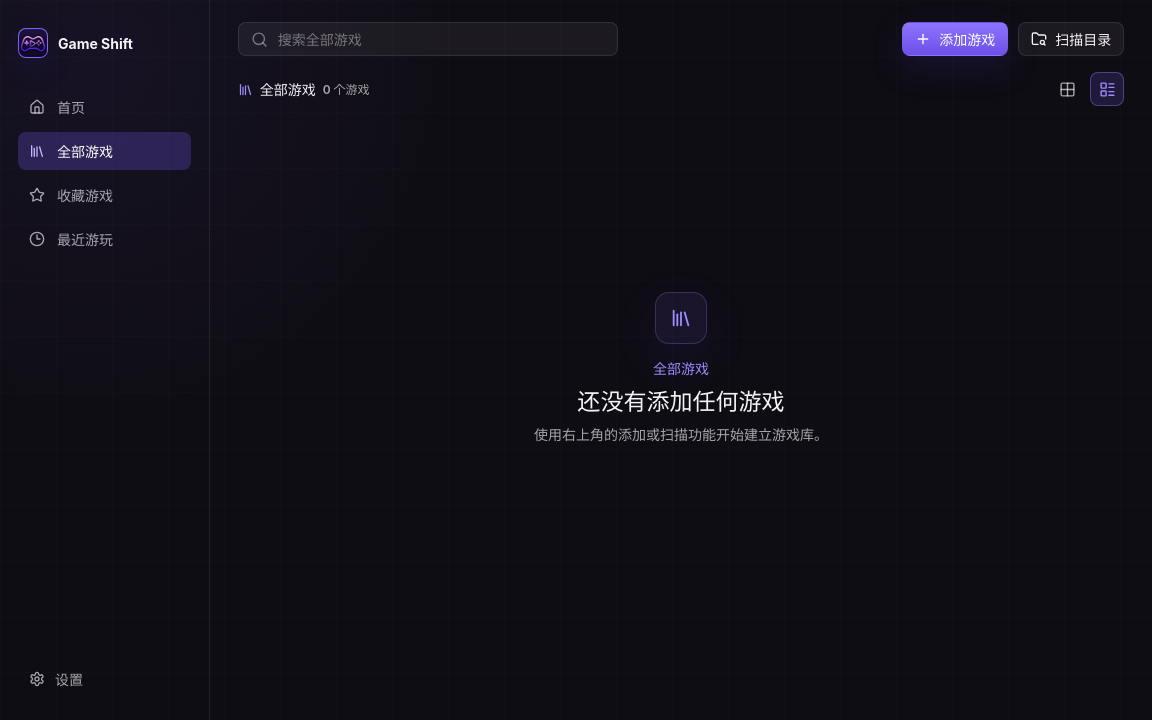
GameLibraryLayout › keeps scan dialog open when import fails
What coordinates should you click on to do the following:
click the button "扫描目录"
I would click on:
 (1071, 39)
Its box is [1018, 22, 1124, 56].
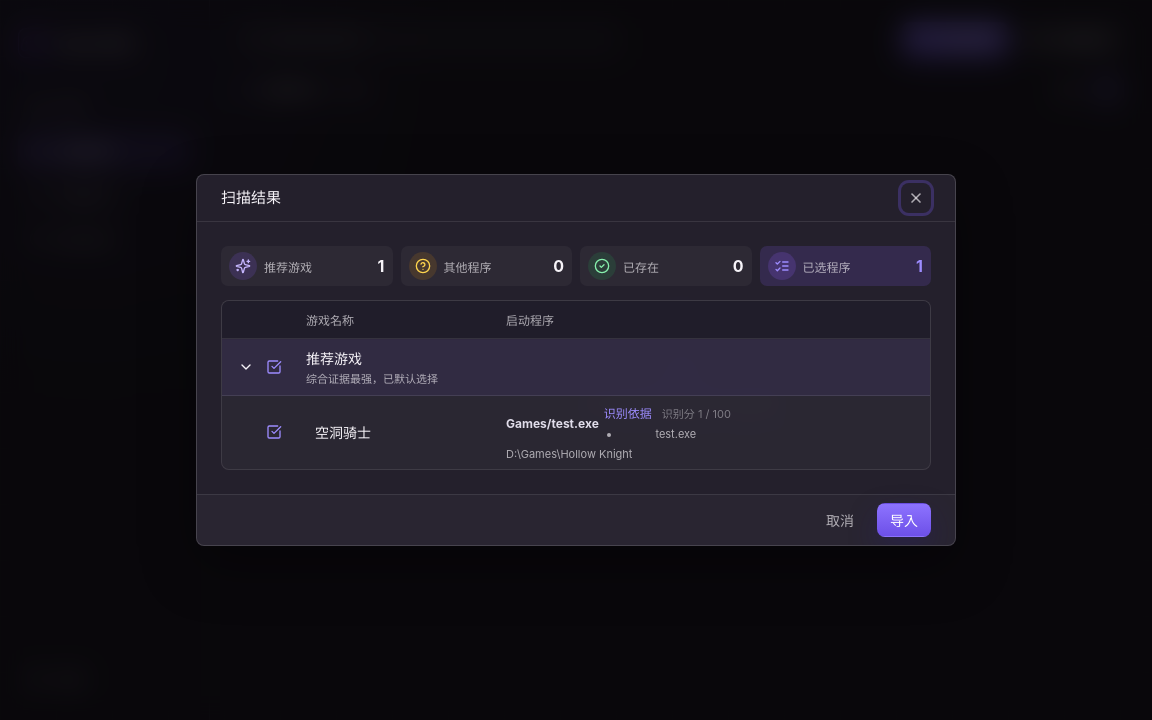
Expected: the button "导入" is shown
What coordinates should you click on to do the following:
click the button "导入"
I would click on:
 (904, 520)
Its box is [877, 503, 931, 537].
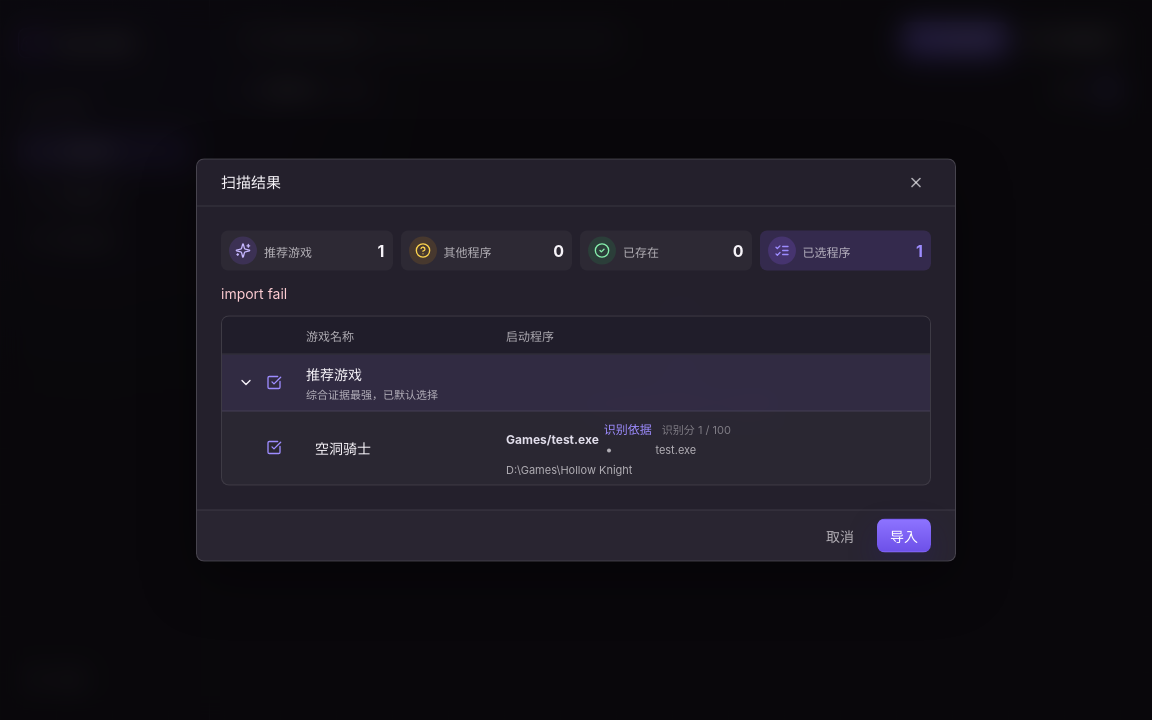
Expected: the dialog shows "import fail", [221, 284, 287, 302]
